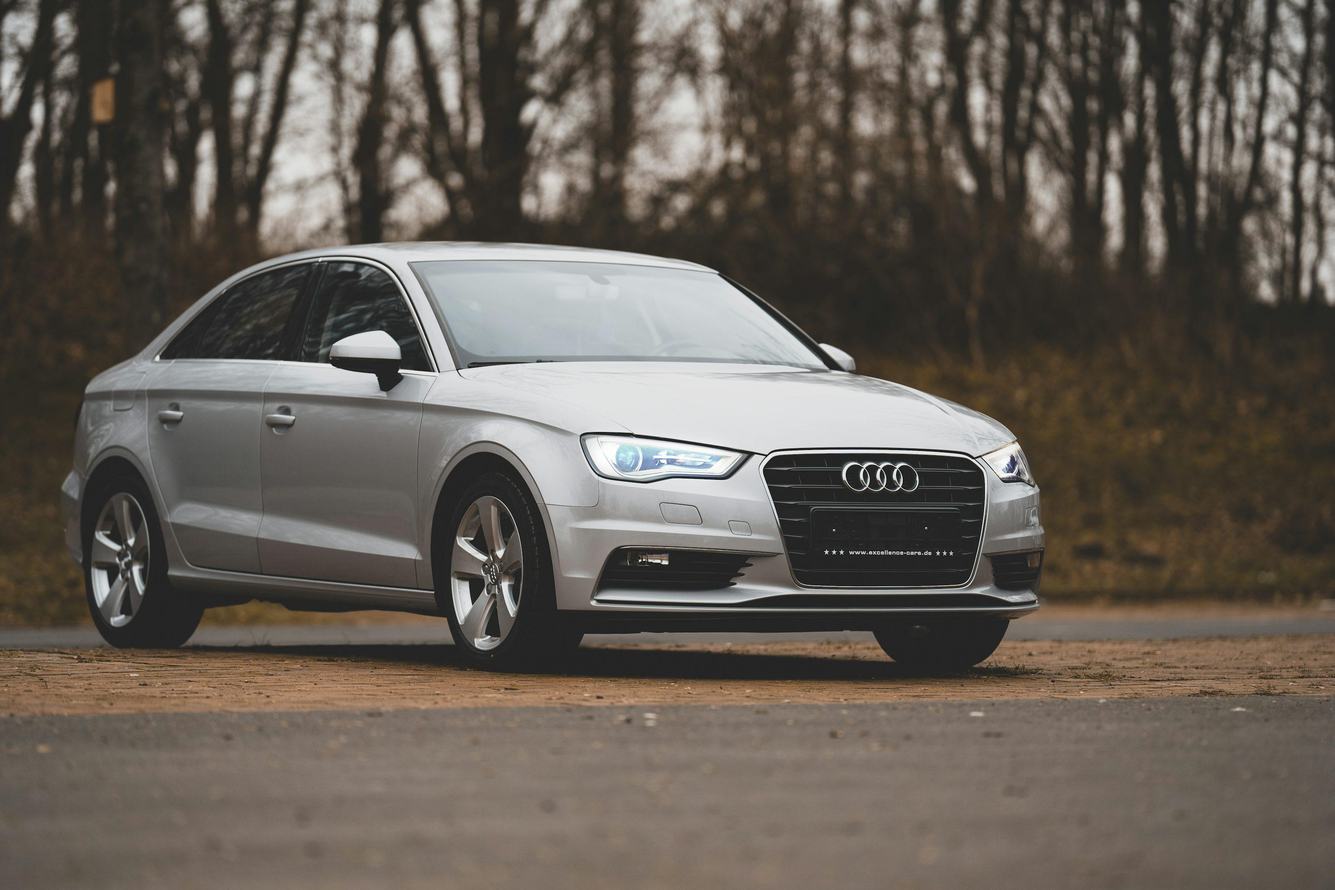Sedan: (58, 209, 1081, 696)
